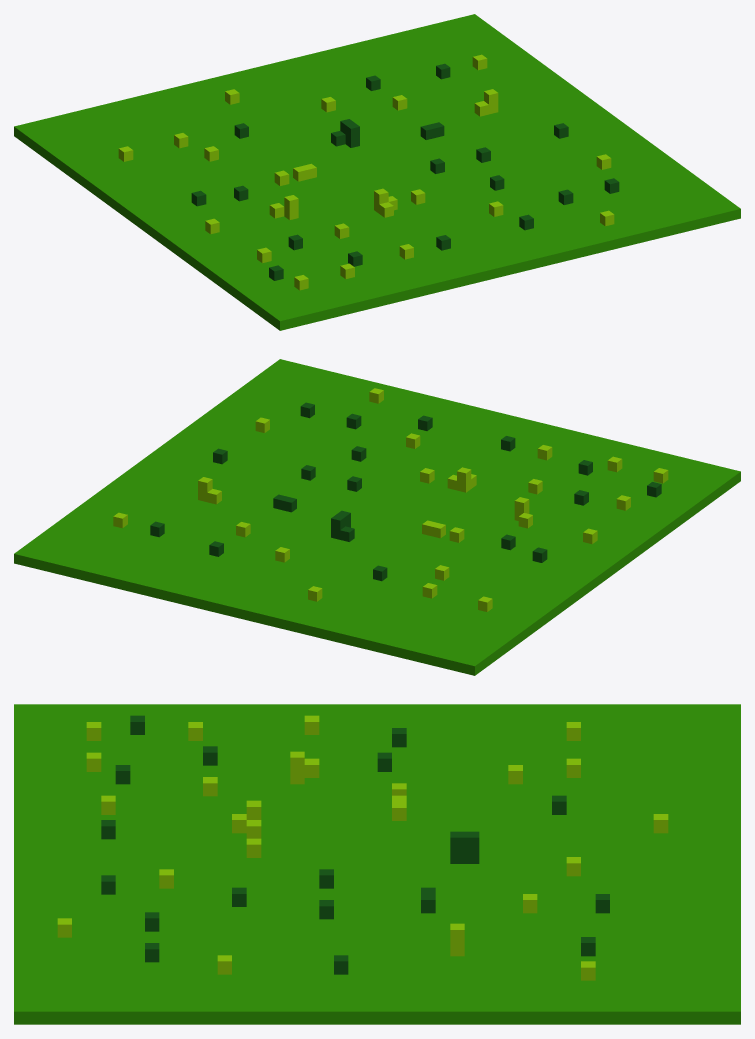
Rendered from grass4.obj.
3 views of the same model, one above another, from view 1: azimuth 30°, elevation 25°; view 2: azimuth 150°, elevation 25°; view 3: azimuth 270°, elevation 25° (orthographic). The views are drawn at different scales.
Bounding box in the file's own units: 5 × 0.3 × 5.
1 material, 1 textured.
